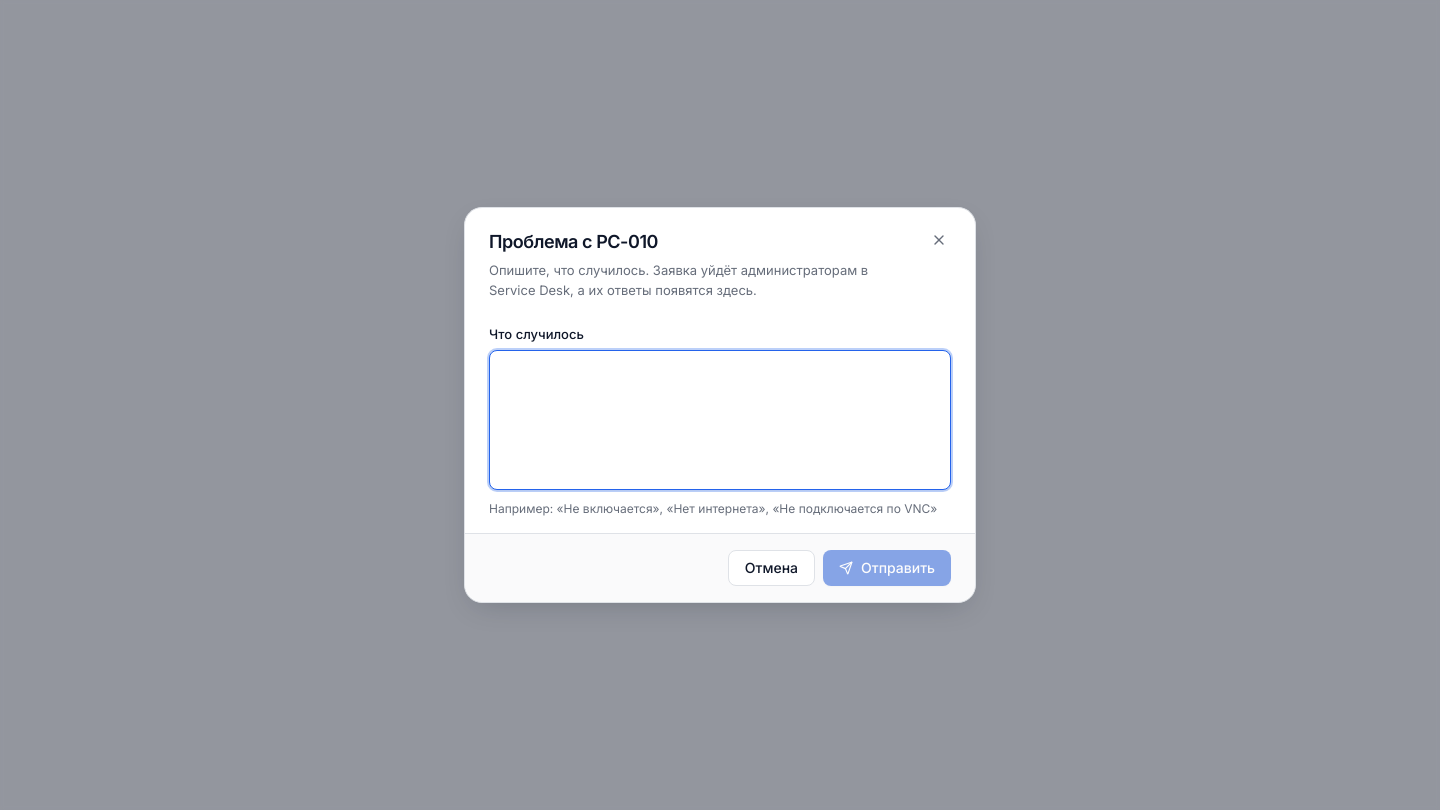
ReportProblemDialog › 5 символов достаточно — кнопка активна
Type "abcde" into the text box labelled "Что случилось" at (720, 420), box [489,350,951,490]
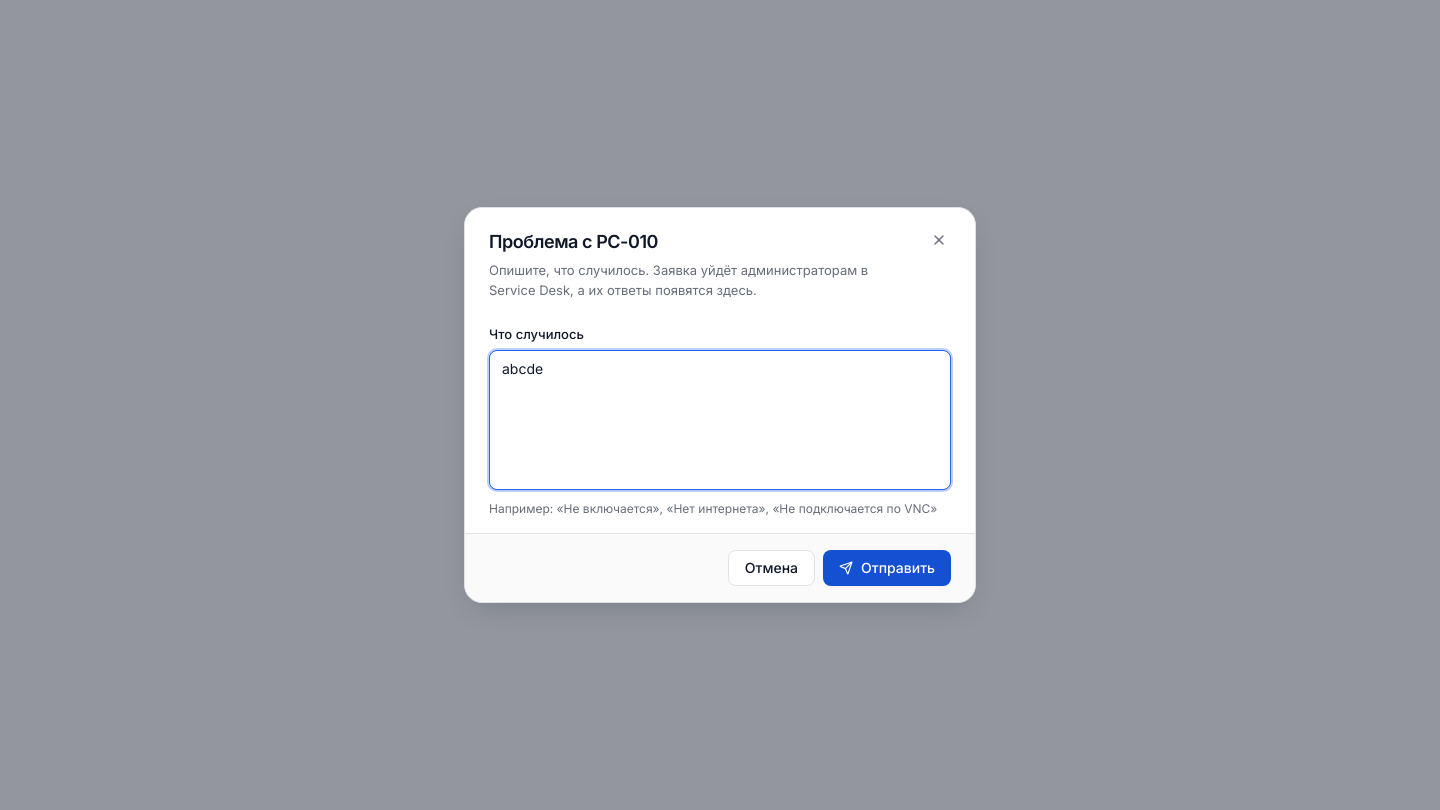
expect the button "Отправить" is enabled: met, box [823,550,951,586]
